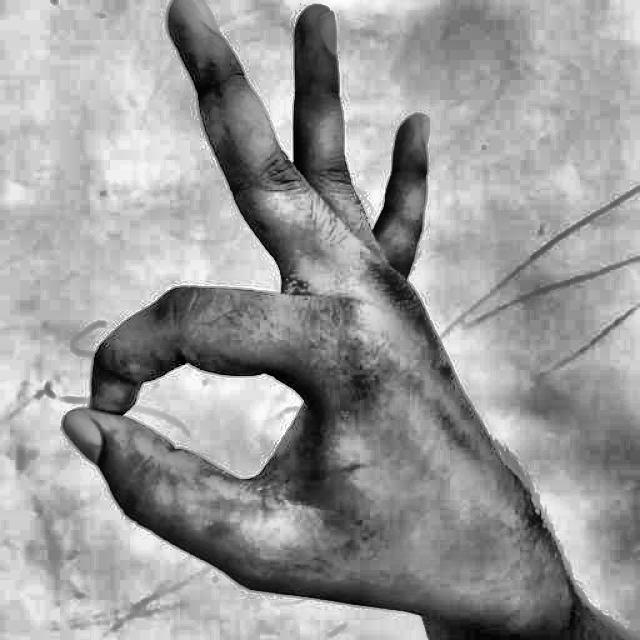Ca: (44, 0, 592, 640)
